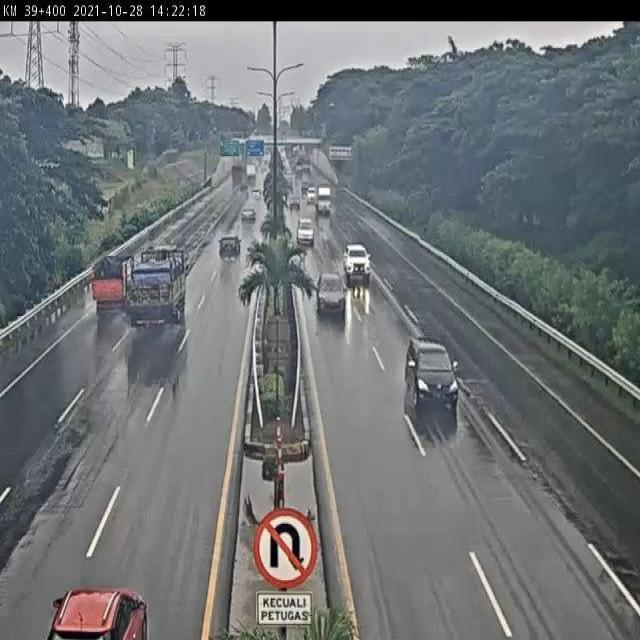ARABA: (400, 336, 461, 411), (314, 272, 351, 321), (343, 241, 374, 283), (296, 216, 317, 248)
KAMYONET: (89, 255, 134, 313)
TIR: (122, 247, 191, 331)
